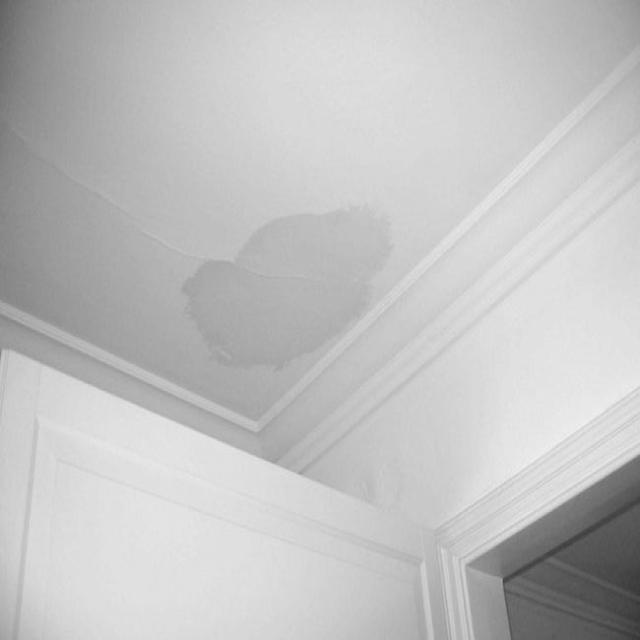stain marks: (177, 205, 397, 372)
